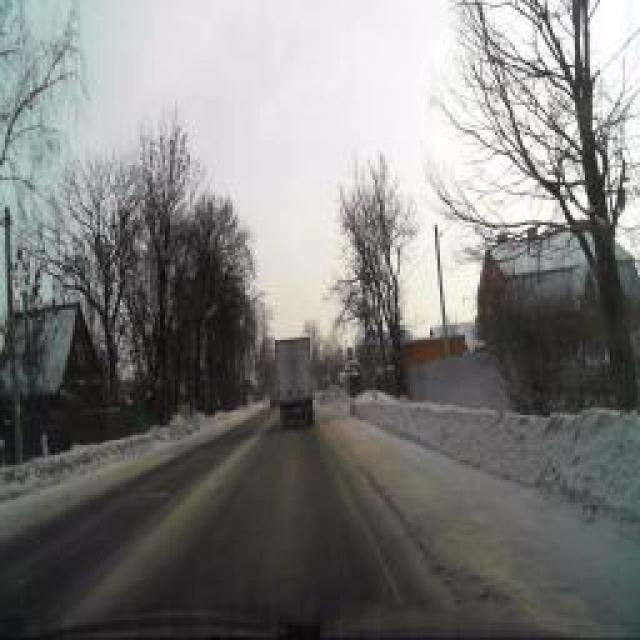sign: (366, 330, 376, 348)
